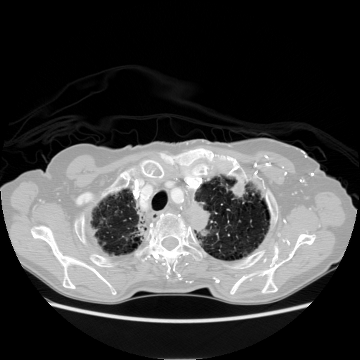nodule: (230, 182, 246, 198)
